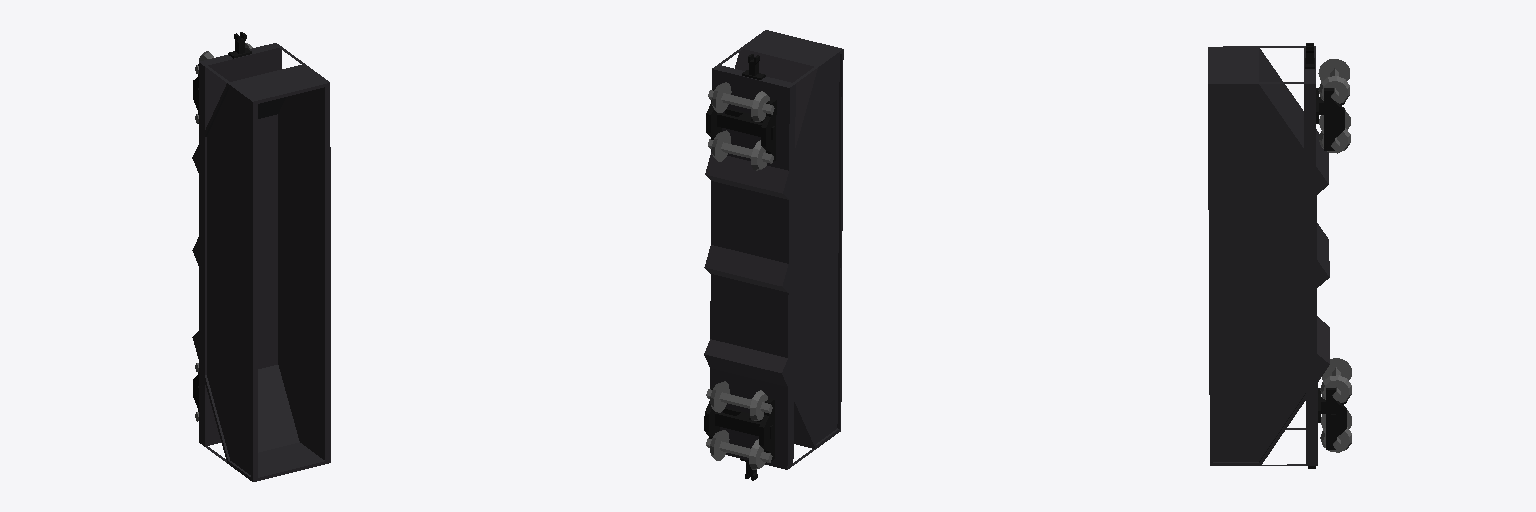
The model's file is vagon15_5.obj.
3 renders of one model, left to right at view 1: azimuth 30°, elevation 25°; view 2: azimuth 150°, elevation 25°; view 3: azimuth 270°, elevation 25°, orthographic.
Parts seen in each view (by area): view 1: Shape_IndexedFaceSet.014, Shape_IndexedFaceSet.015, Shape_IndexedFaceSet.016; view 2: Shape_IndexedFaceSet.016, Shape_IndexedFaceSet.015, Shape_IndexedFaceSet.010, Shape_IndexedFaceSet.025, Shape_IndexedFaceSet.008, Shape_IndexedFaceSet.023; view 3: Shape_IndexedFaceSet.013, Shape_IndexedFaceSet.016, Shape_IndexedFaceSet.024, Shape_IndexedFaceSet.009.
Part boxes in pixels (x1,y1,x2,y2): Shape_IndexedFaceSet.014: (258,87,324,477); Shape_IndexedFaceSet.015: (205,87,250,476); Shape_IndexedFaceSet.016: (192,43,330,481); Shape_IndexedFaceSet.016: (704,30,843,469); Shape_IndexedFaceSet.015: (794,54,841,444); Shape_IndexedFaceSet.010: (715,407,773,438); Shape_IndexedFaceSet.025: (717,108,774,139); Shape_IndexedFaceSet.008: (759,398,774,460); Shape_IndexedFaceSet.023: (761,99,776,161); Shape_IndexedFaceSet.013: (1211,87,1305,462); Shape_IndexedFaceSet.016: (1208,46,1329,465); Shape_IndexedFaceSet.024: (1324,88,1344,150); Shape_IndexedFaceSet.009: (1326,388,1346,449).
Bounding box in the file's own units: 4.59 × 23.36 × 7.26.